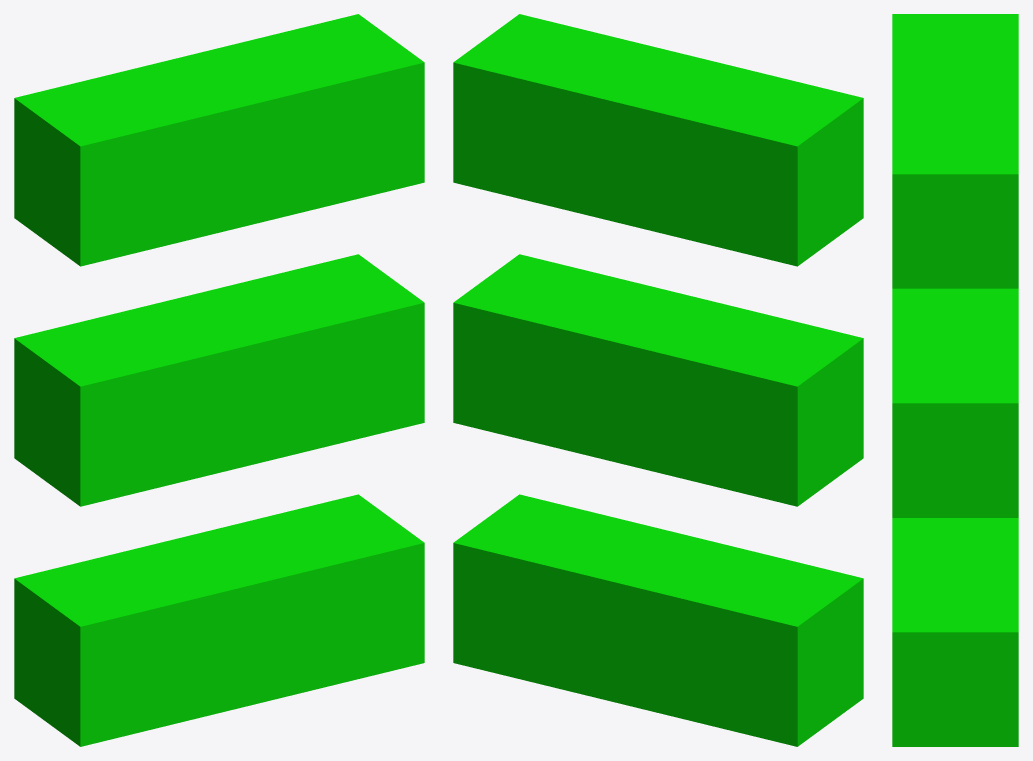
The picture shows the model from 3 angles, left to right: view 1: azimuth 30°, elevation 25°; view 2: azimuth 150°, elevation 25°; view 3: azimuth 270°, elevation 25°; orthographic projection. The views are drawn at different scales.
Parts seen in each view (by area): view 1: 41.1; view 2: 41.1; view 3: 41.1.
Part boxes in pixels (x1,y1,x2,y2): 41.1: (14, 14, 424, 746); 41.1: (453, 14, 863, 746); 41.1: (892, 14, 1018, 746).
Size of the model in its own units: 30 by 50 by 10.
Materials: 1 (1 with a texture image).
